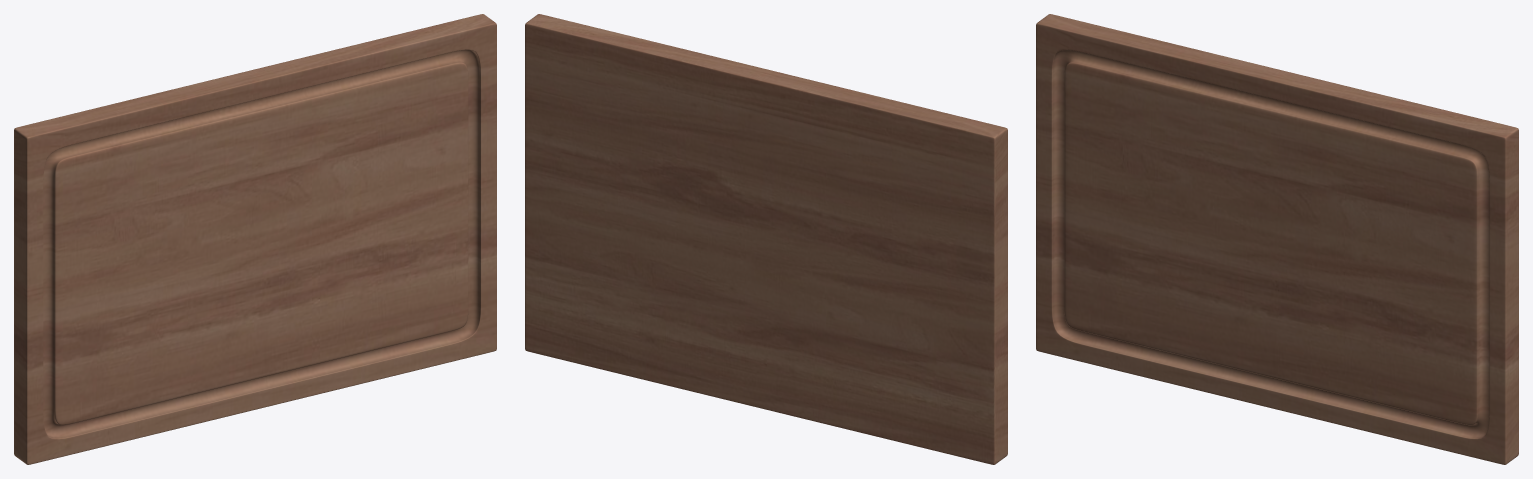
The model's file is CuttingBoardWoodiness.obj.
3 renders of one model, left to right at view 1: azimuth 30°, elevation 25°; view 2: azimuth 150°, elevation 25°; view 3: azimuth 330°, elevation 25°, orthographic.
Visible parts, largest first — view 1: CuttingBoardWoodiness; view 2: CuttingBoardWoodiness; view 3: CuttingBoardWoodiness.
Boxes of the visible parts, x1,y1,x2,y2 form: CuttingBoardWoodiness: (14, 14, 496, 464); CuttingBoardWoodiness: (525, 14, 1007, 464); CuttingBoardWoodiness: (1036, 14, 1518, 464).
Bounding box in the file's own units: 0.3048 × 0.2032 × 0.0152.
Materials: 1 (1 with a texture image).
